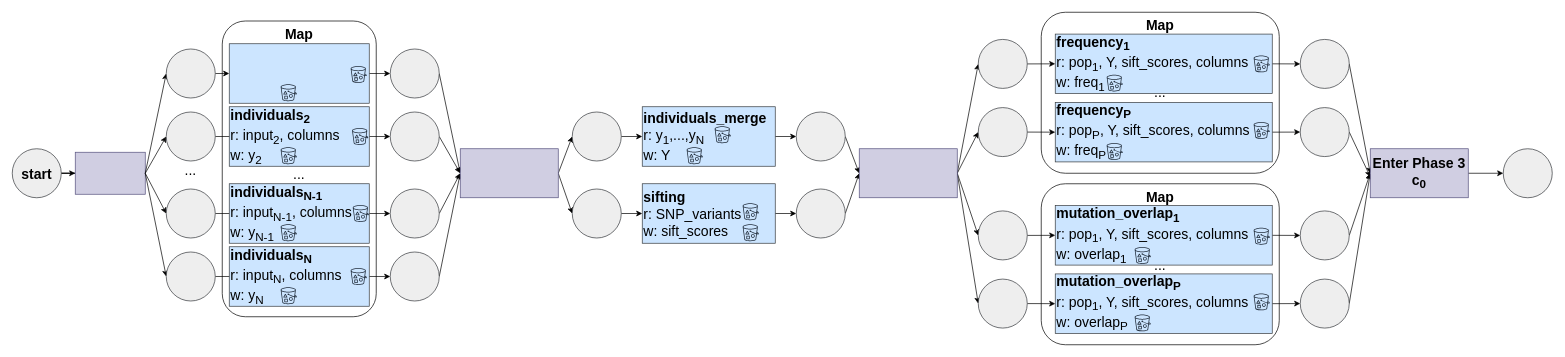
This 1565x357 diagram has some shape labels left out. The shapes that lost their labels are listed below. From the top down, each one's box as (x1, y1, x2, y2) in pixels, then its label:
(229, 43, 369, 103): individuals 1 r: input 1 , columns w: y 1
(75, 152, 145, 194): c 0
(460, 148, 558, 198): Enter Phase 1 c 0
(859, 148, 957, 198): Enter Phase 2 c 0
(1503, 148, 1552, 198): end
